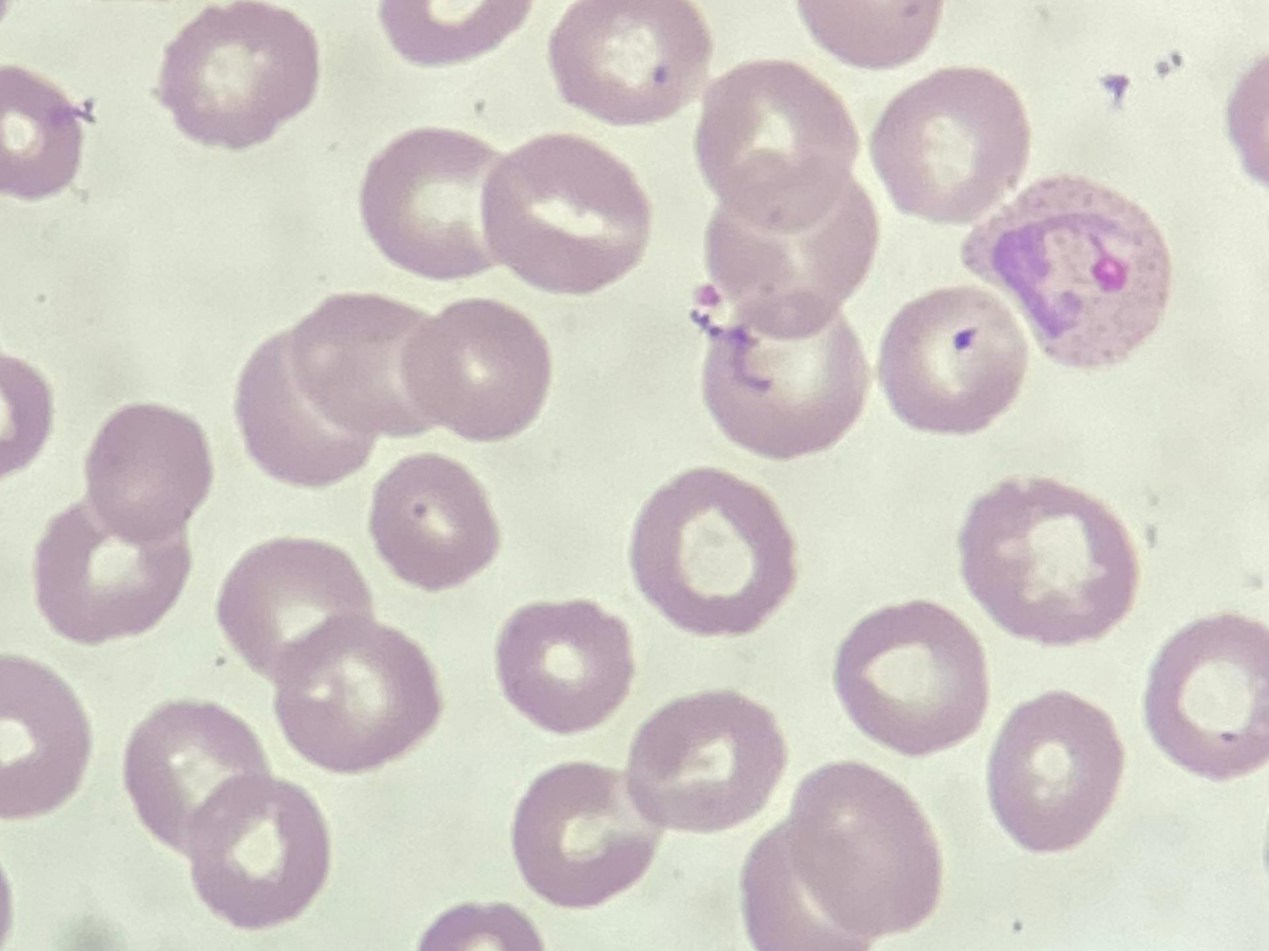Infected: (97, 582, 309, 775)
Uninfected: (131, 305, 305, 471), (408, 723, 574, 889), (619, 655, 787, 817), (391, 614, 565, 769), (473, 316, 635, 478), (329, 20, 482, 187), (830, 180, 996, 331), (399, 492, 566, 640), (240, 728, 397, 884), (889, 465, 1032, 630), (279, 197, 432, 346), (942, 23, 1089, 178), (149, 96, 283, 262), (952, 802, 1108, 944), (241, 515, 389, 664), (1079, 309, 1231, 453), (484, 120, 640, 258), (765, 673, 905, 825), (611, 44, 756, 188), (999, 102, 1142, 247), (717, 512, 865, 652), (0, 171, 123, 339), (894, 278, 1050, 410), (828, 519, 977, 657), (557, 826, 712, 950), (636, 216, 771, 348), (769, 360, 900, 495), (388, 0, 525, 128), (1057, 411, 1187, 545), (1180, 130, 1269, 291), (1181, 750, 1269, 884), (324, 881, 469, 948)
